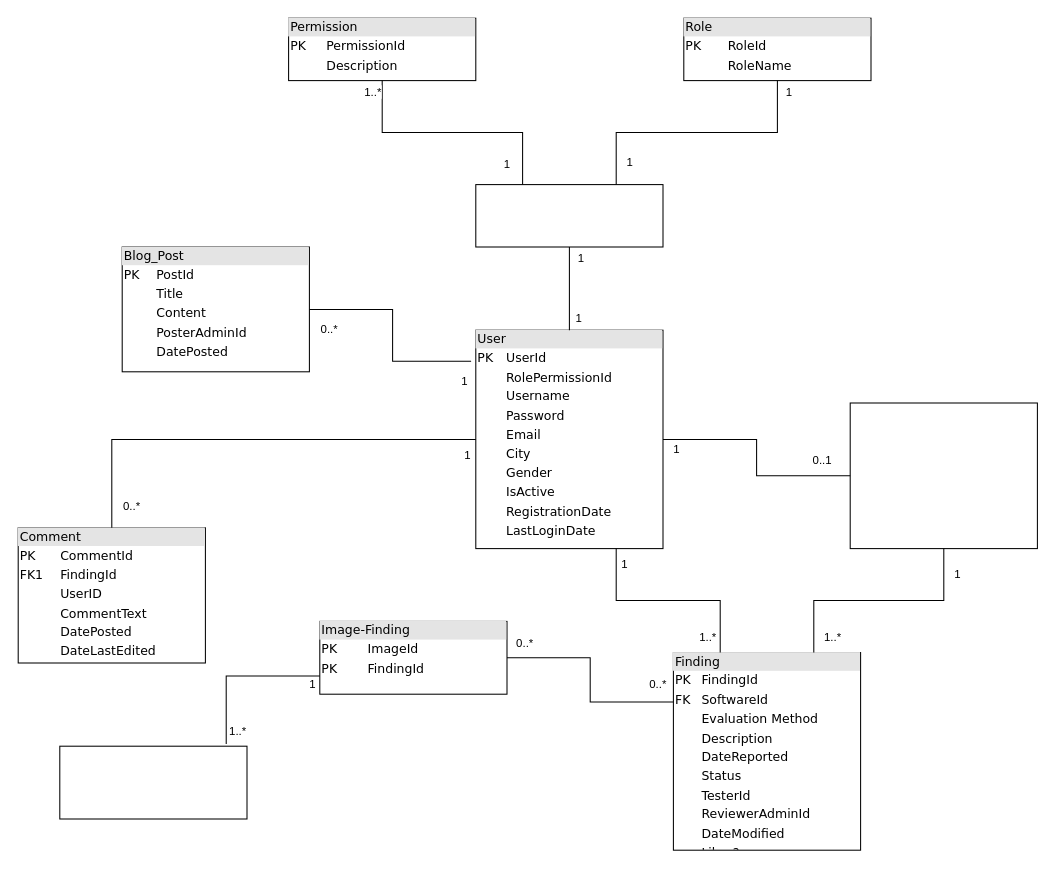
This 1056x877 diagram has some shape labels left out. The shapes that lost their labels are listed below. From the top down, each one's box as (x1, y1, x2, y2) in pixels, then its label:
(475, 184, 663, 247): Role-Permission PK RoleId FK1 PermissionId
(849, 402, 1037, 549): Software PK SoftwareId Name Description OwnerId AddedDate IsActive
(59, 745, 247, 819): Image PK ImageId ImagePath
